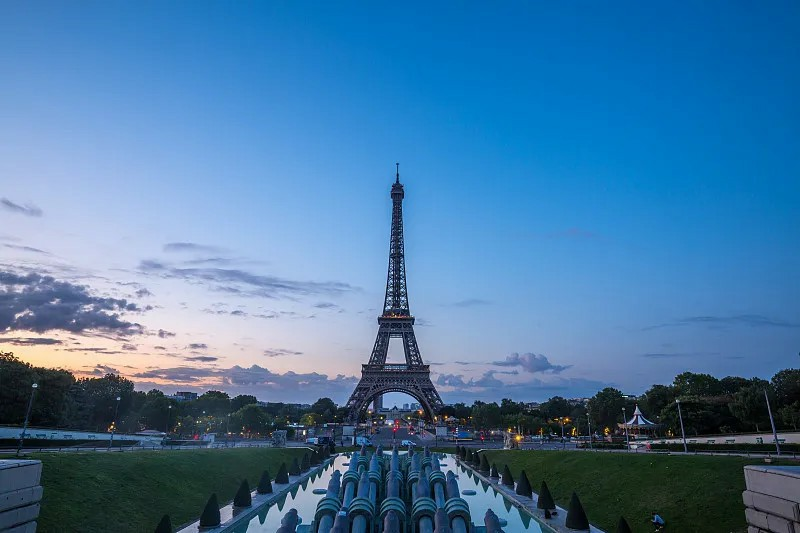Eiffel: (343, 163, 444, 427)
